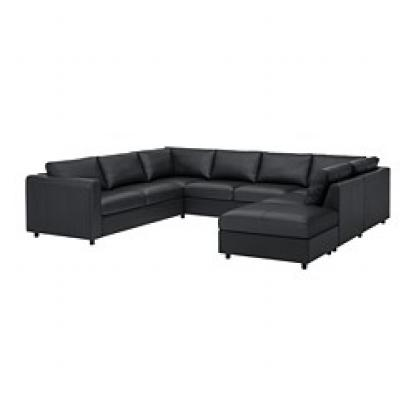Sofa: (17, 121, 394, 274)
